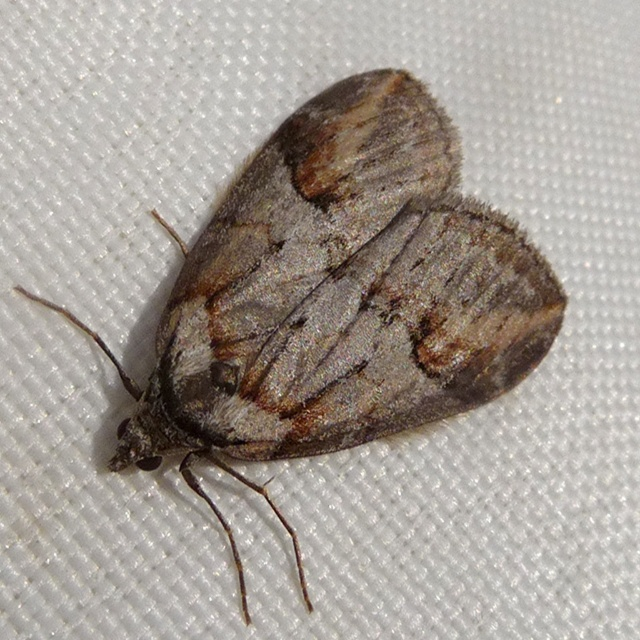Moths and butterflies: (13, 63, 569, 626)
